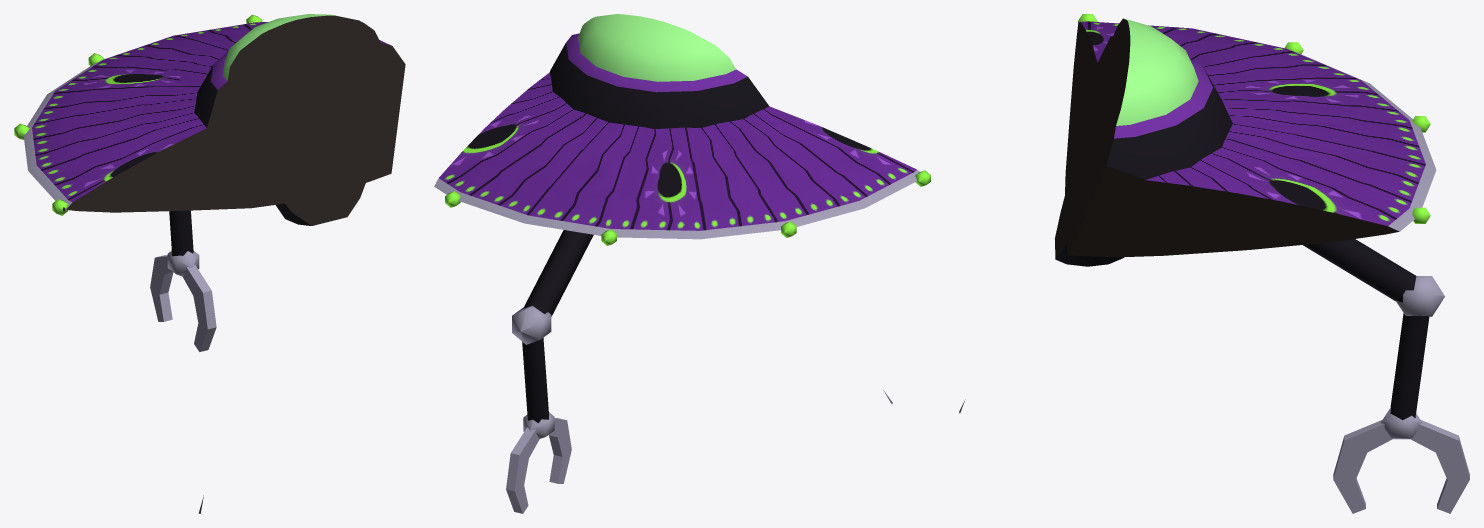
File: grappler_debris2.obj
The picture shows the model from 3 angles, left to right: view 1: azimuth 30°, elevation 25°; view 2: azimuth 150°, elevation 25°; view 3: azimuth 270°, elevation 25°; orthographic projection. The views are drawn at different scales.
Parts seen in each view (by area): view 1: disc, hub, dome, claw, winch, arm, rim_light, joint; view 2: disc, hub, dome, arm, claw, joint, rim_light; view 3: disc, hub, dome, arm, claw, joint, winch, rim_light.
Part boxes in pixels (left/top/right/bottom): disc: left=23, top=22, right=403, bottom=212; hub: left=194, top=40, right=405, bottom=130; dome: left=223, top=14, right=381, bottom=82; claw: left=150, top=255, right=216, bottom=513; winch: left=276, top=172, right=368, bottom=225; arm: left=169, top=210, right=193, bottom=256; rim_light: left=14, top=14, right=262, bottom=215; joint: left=167, top=251, right=199, bottom=276; disc: left=434, top=72, right=919, bottom=239; hub: left=549, top=33, right=769, bottom=129; dome: left=578, top=14, right=735, bottom=81; arm: left=522, top=230, right=593, bottom=423; claw: left=506, top=390, right=892, bottom=513; joint: left=512, top=306, right=554, bottom=439; rim_light: left=445, top=170, right=930, bottom=245; disc: left=1065, top=21, right=1436, bottom=257; hub: left=1096, top=36, right=1232, bottom=181; dome: left=1112, top=18, right=1198, bottom=127; arm: left=1303, top=239, right=1429, bottom=420; claw: left=959, top=399, right=1469, bottom=513; joint: left=1381, top=276, right=1444, bottom=439; winch: left=1055, top=187, right=1123, bottom=266; rim_light: left=1078, top=14, right=1430, bottom=223.
Size of the model in its own units: 14.46 by 15.01 by 14.65.
Materials: 7 (1 with a texture image).
